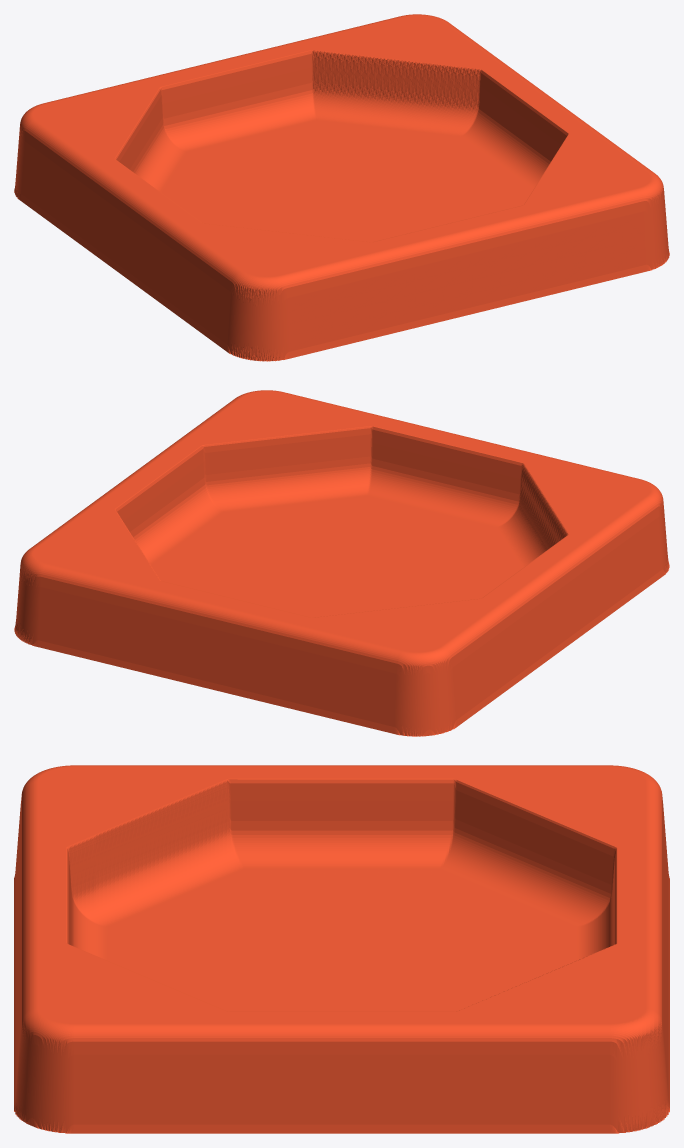
File: mold.glb
3 views of the same model, one above another, from view 1: azimuth 30°, elevation 25°; view 2: azimuth 150°, elevation 25°; view 3: azimuth 270°, elevation 25° (orthographic). The views are drawn at different scales.
Parts seen in each view (by area): view 1: geometry_0; view 2: geometry_0; view 3: geometry_0.
Part boxes in pixels (x1,y1,x2,y2): geometry_0: (14,14,669,361); geometry_0: (14,390,669,736); geometry_0: (14,765,669,1133).
Size of the model in its own units: 0.0986 by 0.0165 by 0.0986.
